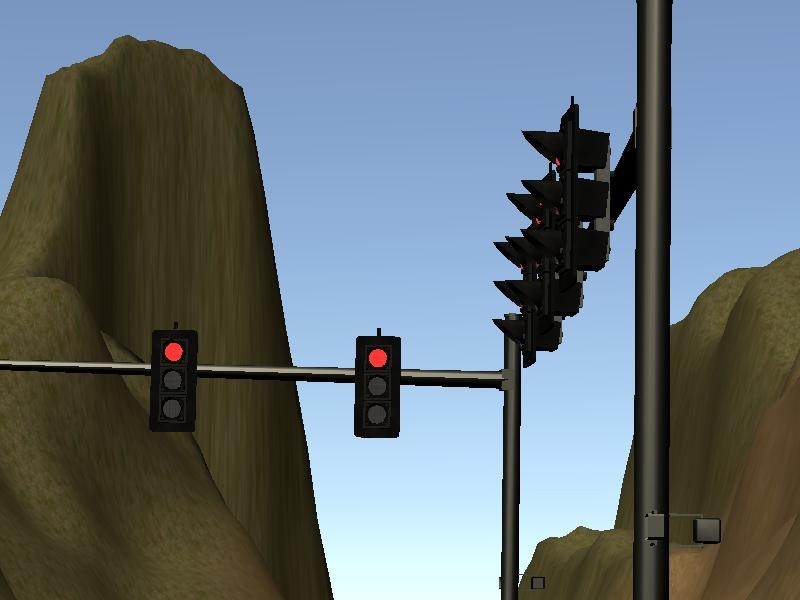red: (355, 336, 402, 441), (150, 332, 198, 433)
